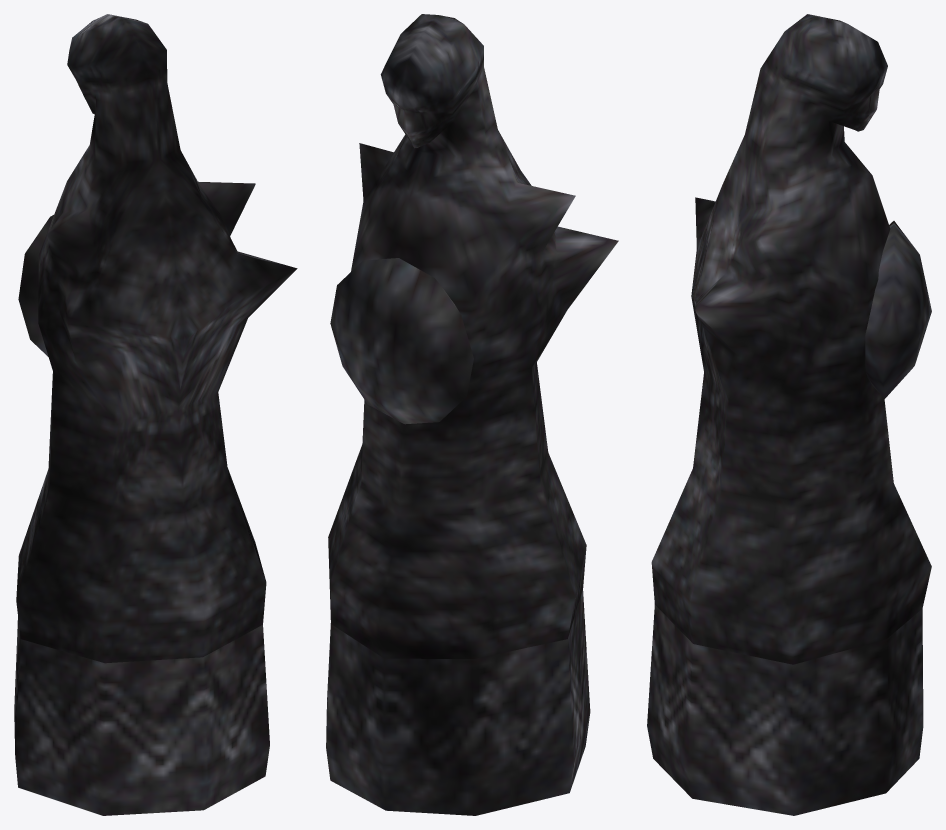
The model's file is KF4GAME.ICO.obj.
3 views of the same model, side by side, from view 1: azimuth 30°, elevation 25°; view 2: azimuth 150°, elevation 25°; view 3: azimuth 270°, elevation 25° (orthographic). The views are drawn at different scales.
Bounding box in the file's own units: 1.69 × 4.95 × 1.72.
1 material, 1 textured.
